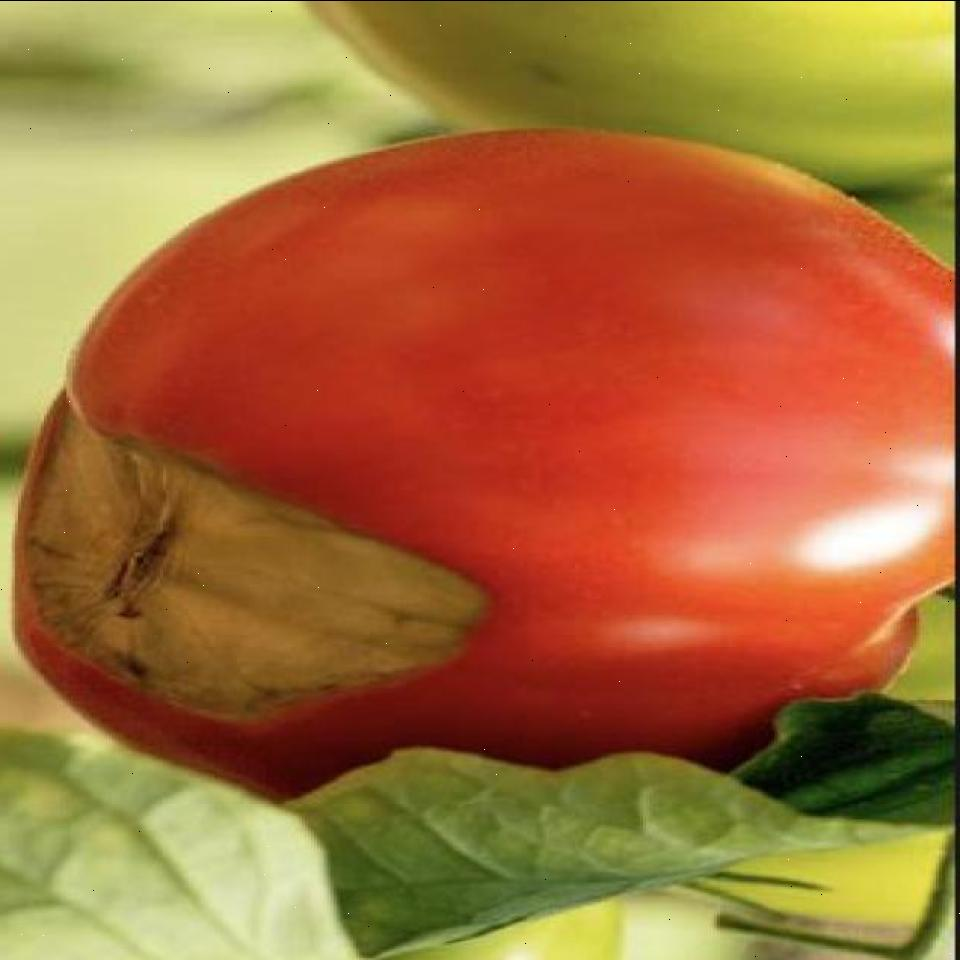Blossom_end_rot: (18, 388, 504, 724)
